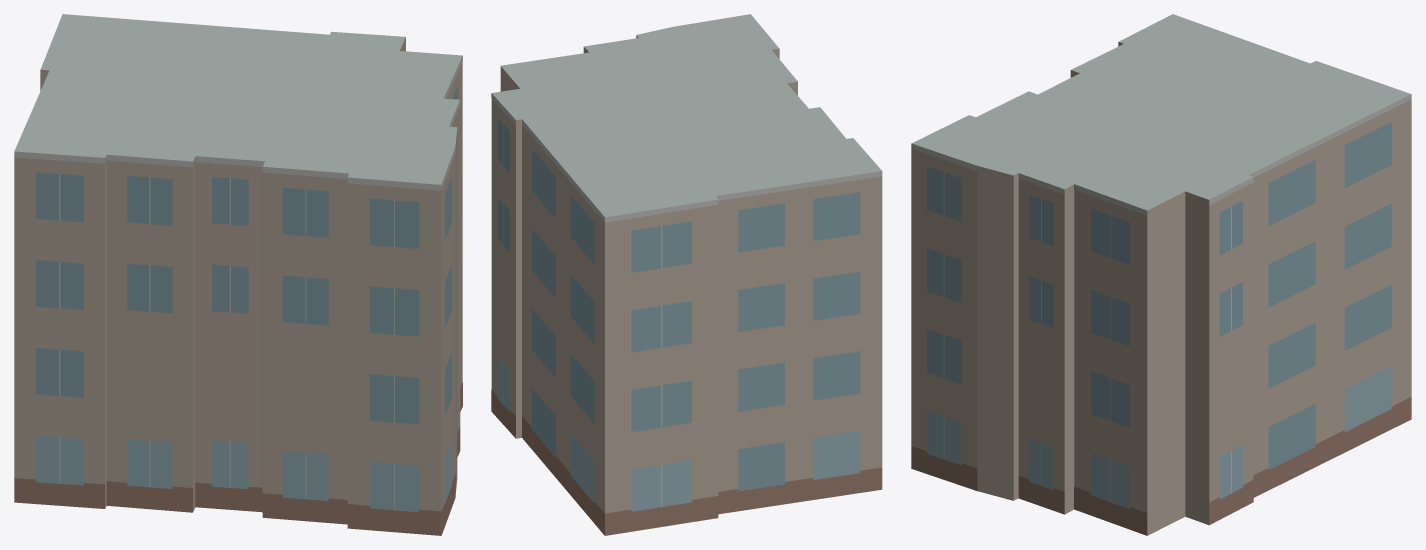
The model's file is survey-upis-32595630.glb.
The picture shows the model from 3 angles, left to right: view 1: azimuth 30°, elevation 25°; view 2: azimuth 150°, elevation 25°; view 3: azimuth 270°, elevation 25°; orthographic projection. The views are drawn at different scales.
Parts seen in each view (by area): view 1: survey-upis-32595630.tmp; view 2: survey-upis-32595630.tmp; view 3: survey-upis-32595630.tmp.
Boxes of the visible parts, x1=… form: survey-upis-32595630.tmp: x1=14, y1=14, x2=462, y2=535; survey-upis-32595630.tmp: x1=491, y1=14, x2=882, y2=535; survey-upis-32595630.tmp: x1=911, y1=14, x2=1411, y2=535.
Size of the model in its own units: 18.86 by 14.55 by 20.28.
